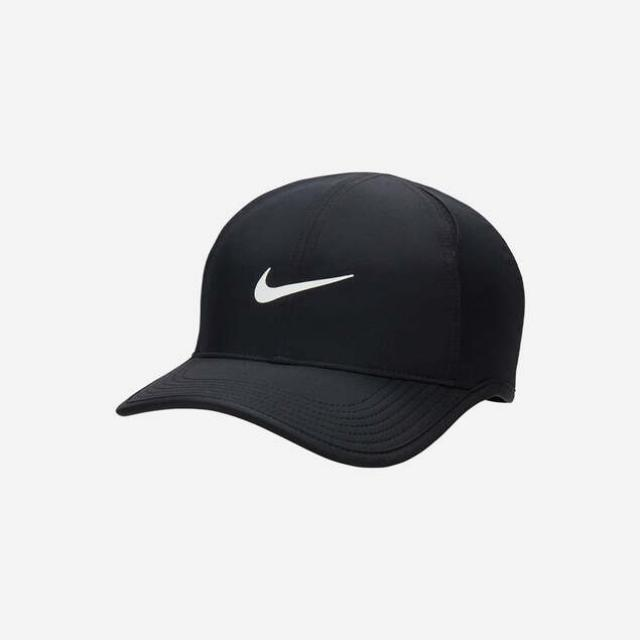Nonhelmet: (113, 166, 529, 471)
